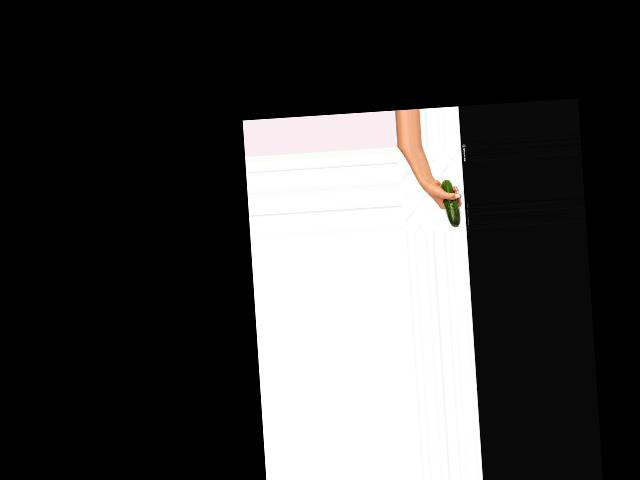cucumber: (441, 180, 461, 228)
